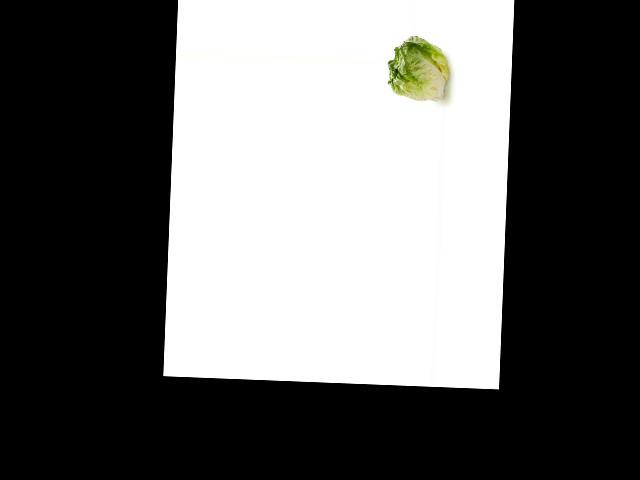lettuce: (384, 31, 449, 106)
